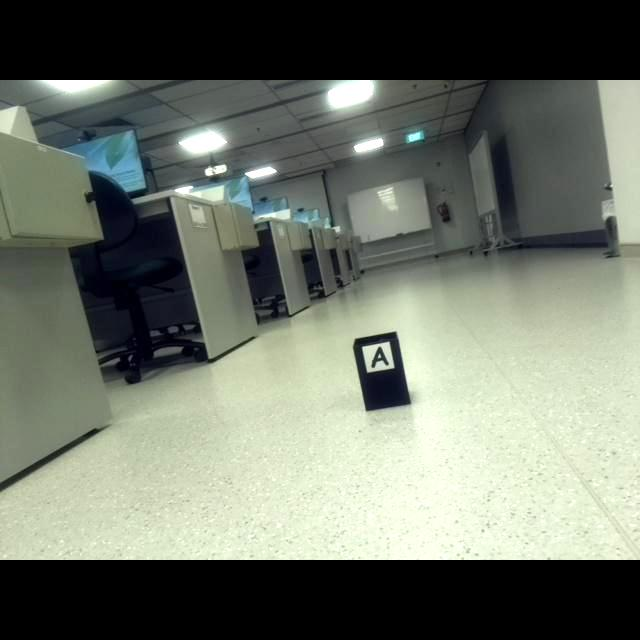A: (371, 346, 390, 369)
